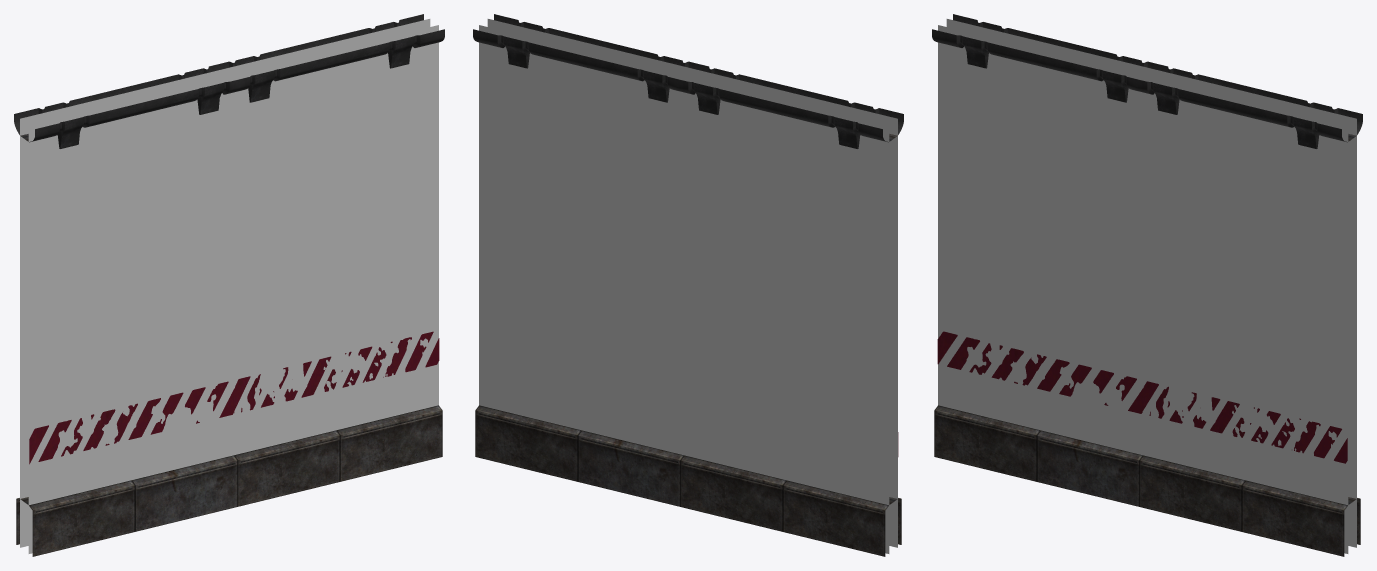
File: lab_flat_glass_striped.dae
3 renders of one model, left to right at view 1: azimuth 30°, elevation 25°; view 2: azimuth 150°, elevation 25°; view 3: azimuth 330°, elevation 25°, orthographic.
Visible parts, largest first — view 1: polySurface50, polySurface19, polySurface17; view 2: polySurface50, polySurface19; view 3: polySurface50, polySurface19, polySurface17.
Boxes of the visible parts, x1,y1,x2,y2 form: polySurface50: [20, 19, 438, 553]; polySurface19: [14, 14, 444, 556]; polySurface17: [29, 331, 439, 464]; polySurface50: [479, 19, 897, 553]; polySurface19: [473, 14, 903, 556]; polySurface50: [938, 19, 1356, 553]; polySurface19: [932, 14, 1362, 556]; polySurface17: [937, 331, 1347, 463].
Size of the model in its own units: 4 by 4 by 0.3514.
